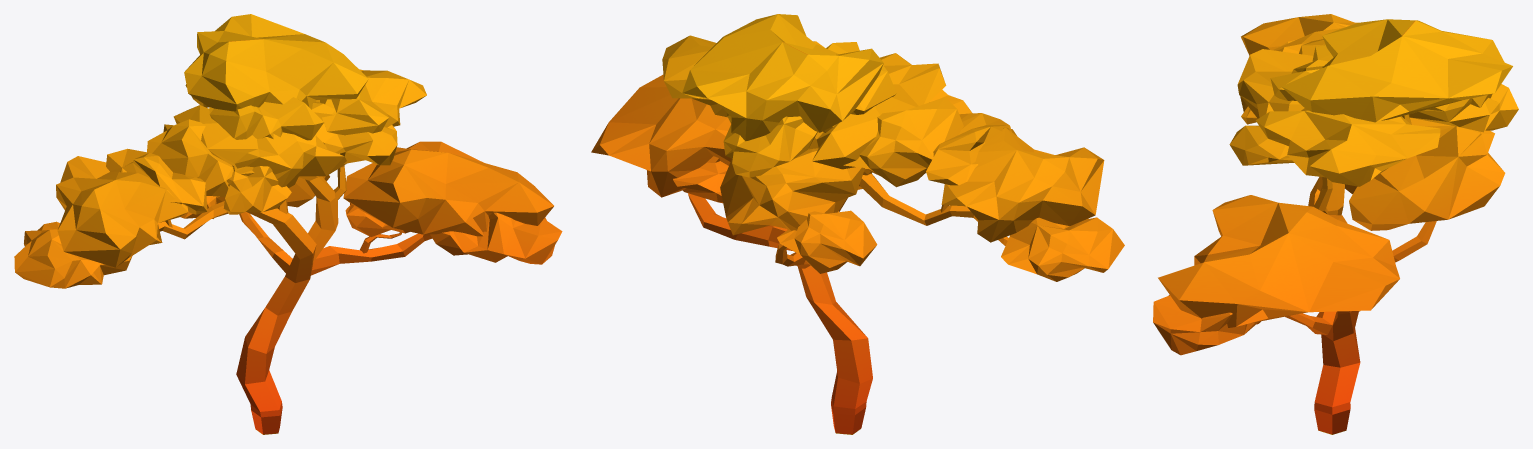
The model's file is SM_Env_Hologram_Cherry_Tree_02.fbx.
The picture shows the model from 3 angles, left to right: view 1: azimuth 30°, elevation 25°; view 2: azimuth 150°, elevation 25°; view 3: azimuth 270°, elevation 25°; orthographic projection. The views are drawn at different scales.
Visible parts, largest first — view 1: SM_Env_Hologram_Cherry_Tree_02; view 2: SM_Env_Hologram_Cherry_Tree_02; view 3: SM_Env_Hologram_Cherry_Tree_02.
Part boxes in pixels (left/top/right/bottom): SM_Env_Hologram_Cherry_Tree_02: left=14, top=14, right=562, bottom=434; SM_Env_Hologram_Cherry_Tree_02: left=591, top=14, right=1124, bottom=434; SM_Env_Hologram_Cherry_Tree_02: left=1153, top=14, right=1518, bottom=434.
Bounding box in the file's own units: 897 × 660 × 538.
